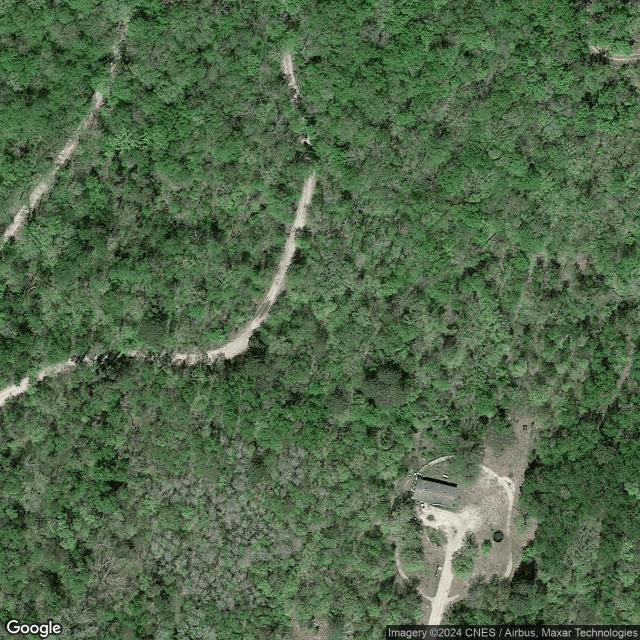Propane: (442, 473, 449, 479)
